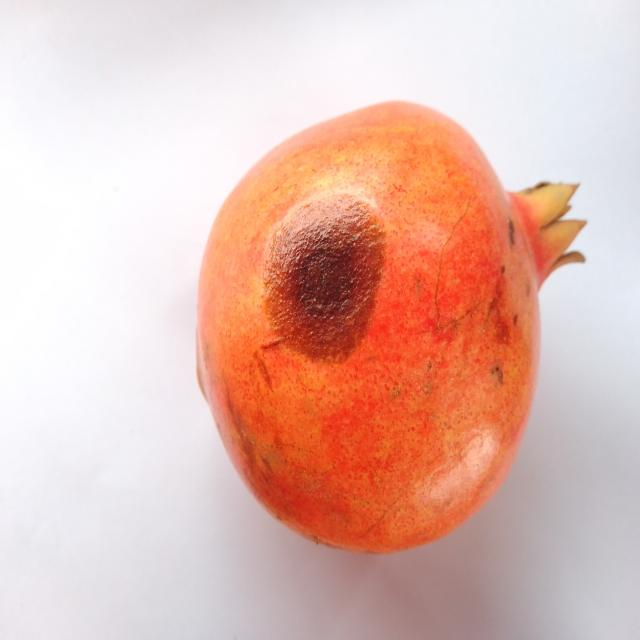Rotten: (191, 94, 586, 556)
